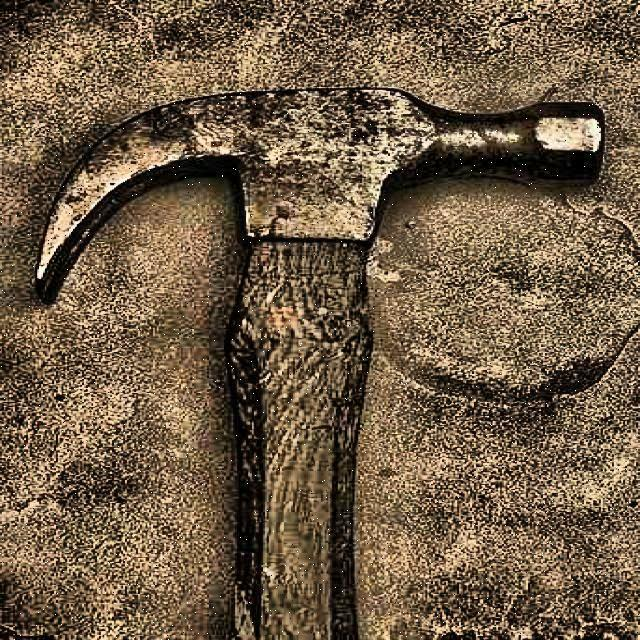hammer: (31, 87, 610, 640)
